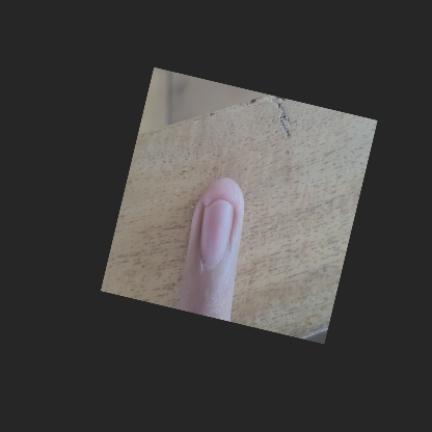Nail: (201, 200, 234, 266)
